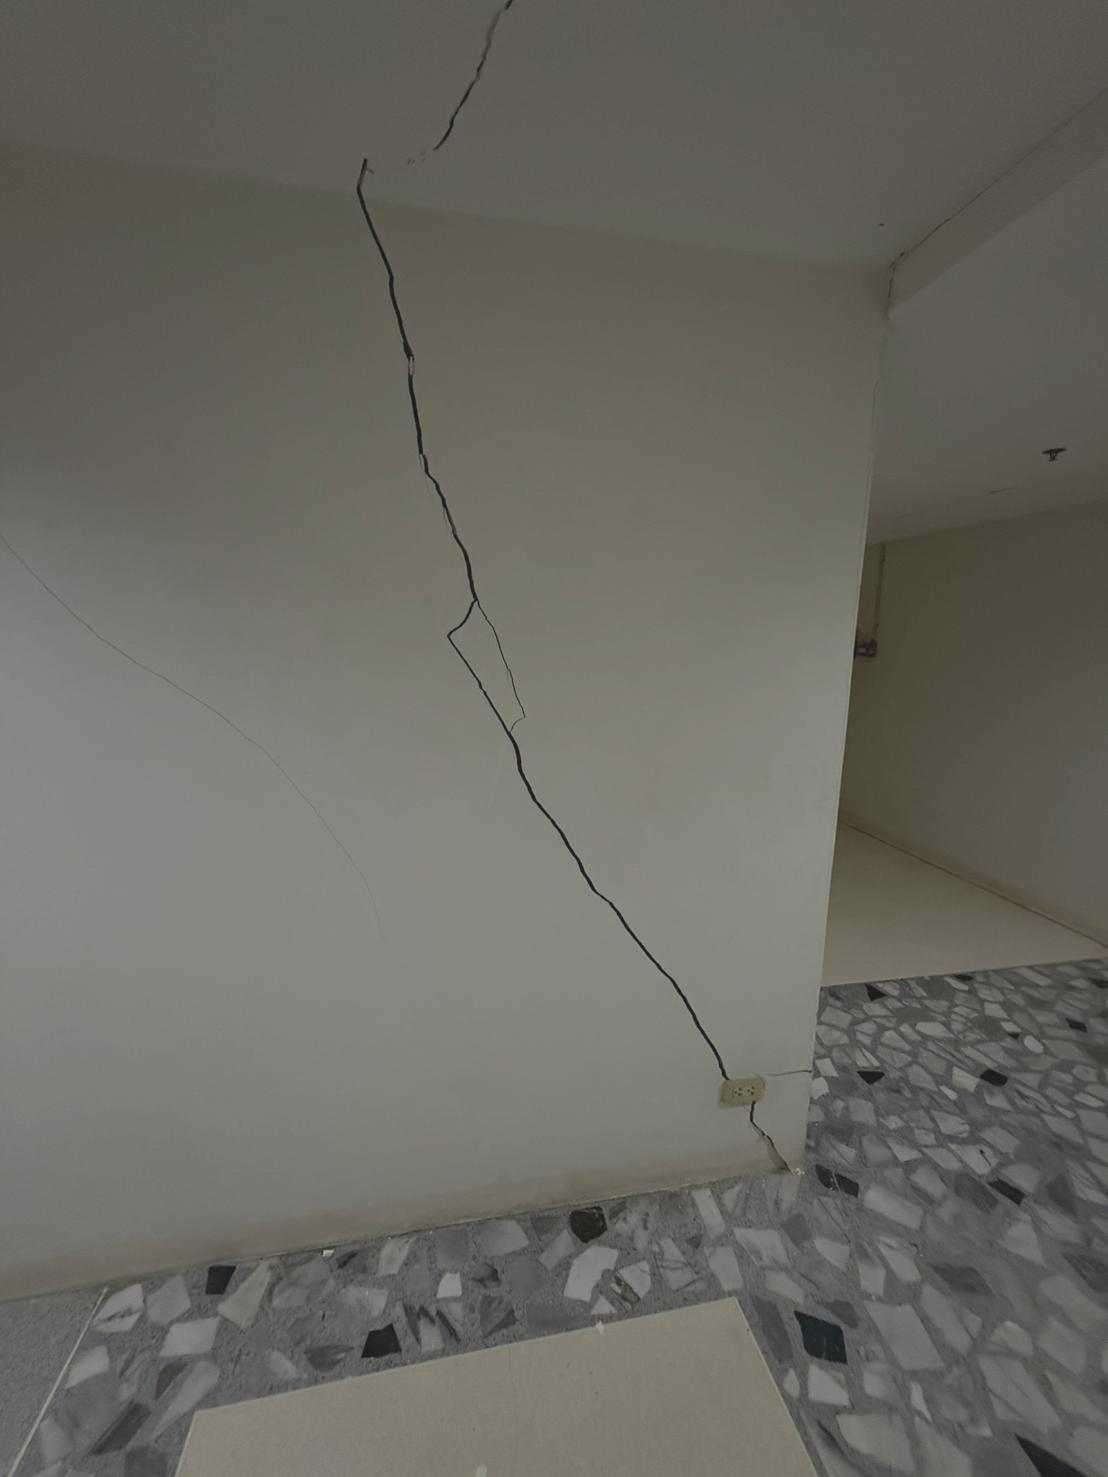High: (329, 1, 801, 1183)
